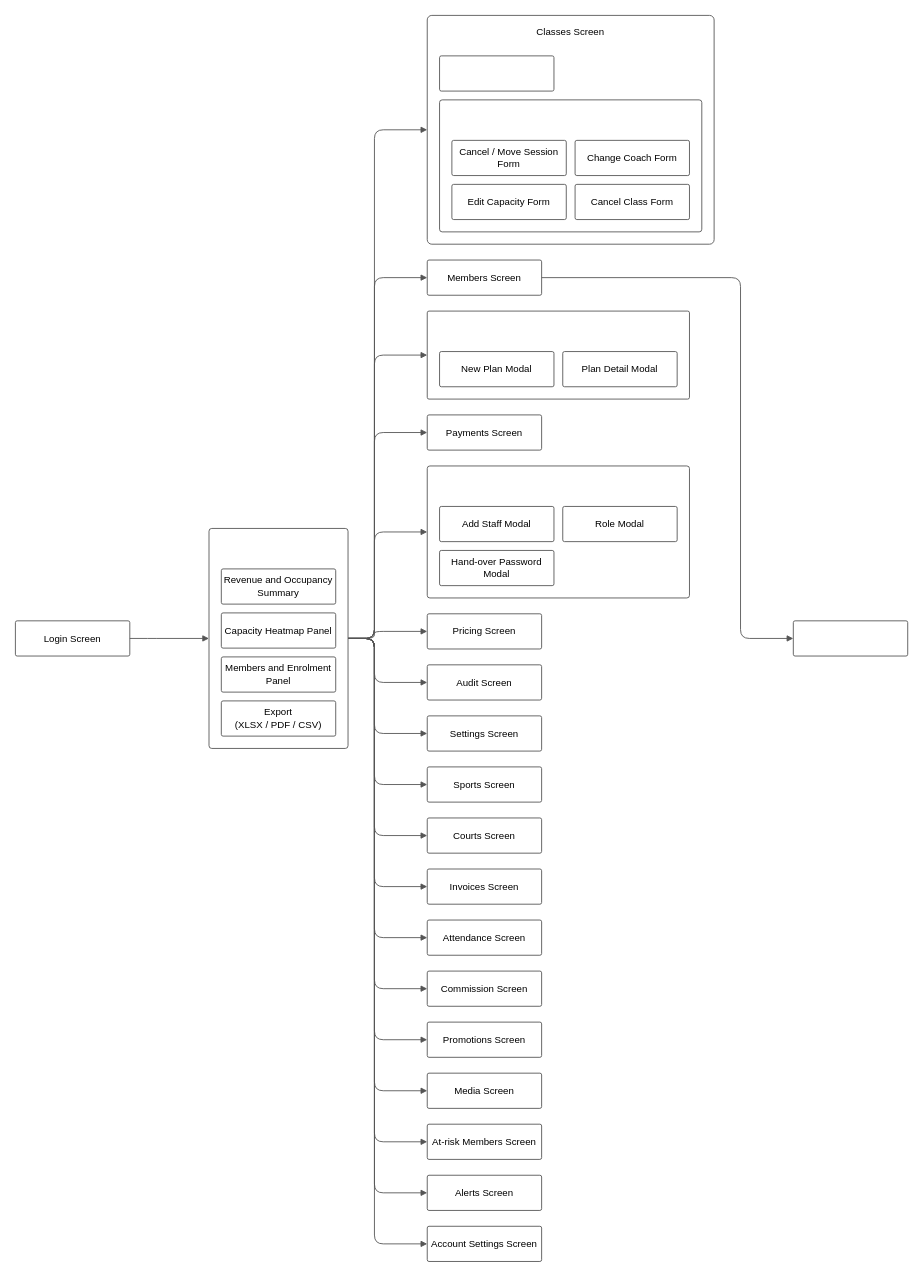
The diagram is 923 pixels wide and 1277 high, and some of its shapes have lost their labels. The shapes that lost their labels are listed below. From the top down, each one's box as (x1, y1, x2, y2) in pixels, then its label:
(439, 55, 554, 91): Create Class Form
(439, 99, 702, 232): Class Detail Modal (manage)
(426, 310, 689, 399): Plans Screen
(426, 465, 689, 598): Staff Screen
(208, 528, 348, 748): Reports Screen
(792, 620, 908, 656): Member Profile Screen
